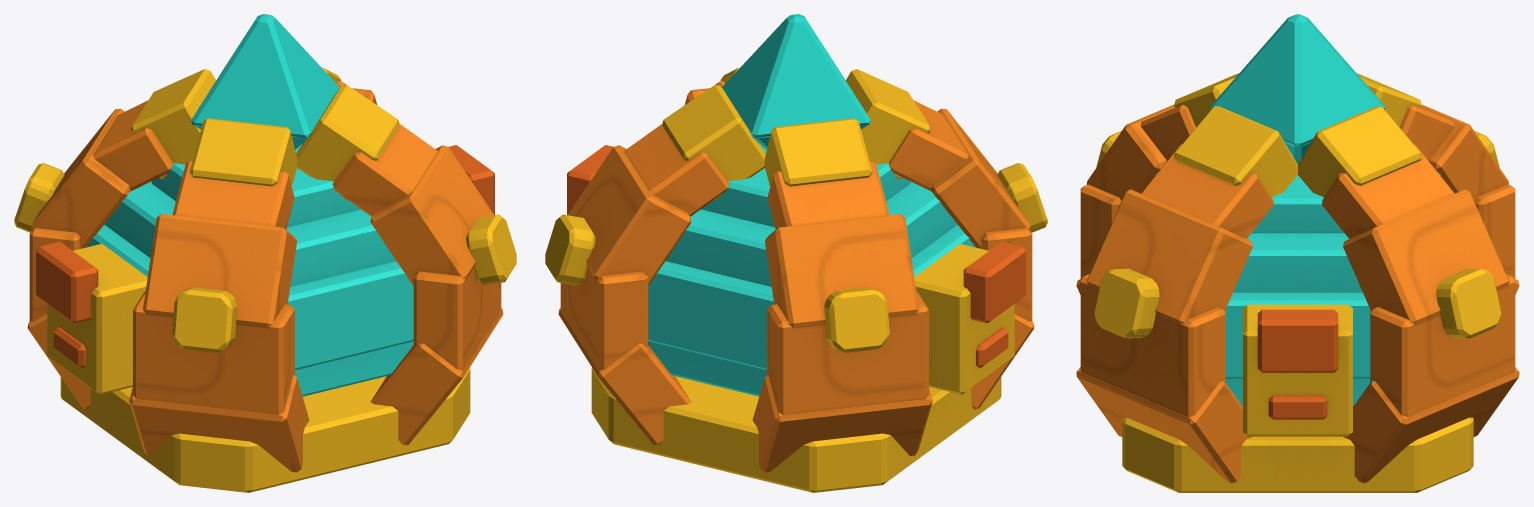
The model's file is Lovibum_Boom.fbx.
3 views of the same model, side by side, from view 1: azimuth 30°, elevation 25°; view 2: azimuth 150°, elevation 25°; view 3: azimuth 270°, elevation 25° (orthographic). The views are drawn at different scales.
Parts seen in each view (by area): view 1: LovibumBoomClaw3, LovibumBoomClaw4, LovibumBoomBase, LovibumBoomCore, LovibumBoomClaw2, LovibumBoomCrystal; view 2: LovibumBoomClaw2, LovibumBoomClaw1, LovibumBoomBase, LovibumBoomCore, LovibumBoomClaw3, LovibumBoomCrystal; view 3: LovibumBoomClaw1, LovibumBoomClaw4, LovibumBoomBase, LovibumBoomCore, LovibumBoomCrystal, LovibumBoomClaw2, LovibumBoomClaw3.
Boxes of the visible parts, bbox=[...] form: LovibumBoomClaw3: bbox=[129, 118, 309, 472]; LovibumBoomClaw4: bbox=[296, 85, 516, 445]; LovibumBoomBase: bbox=[36, 145, 494, 492]; LovibumBoomCore: bbox=[86, 144, 413, 396]; LovibumBoomClaw2: bbox=[14, 69, 215, 409]; LovibumBoomCrystal: bbox=[191, 14, 339, 149]; LovibumBoomClaw2: bbox=[752, 118, 932, 472]; LovibumBoomClaw1: bbox=[545, 85, 765, 445]; LovibumBoomBase: bbox=[567, 145, 1025, 492]; LovibumBoomCore: bbox=[648, 144, 975, 396]; LovibumBoomClaw3: bbox=[846, 69, 1047, 409]; LovibumBoomCrystal: bbox=[722, 14, 870, 149]; LovibumBoomClaw1: bbox=[1298, 106, 1519, 483]; LovibumBoomClaw4: bbox=[1076, 106, 1297, 483]; LovibumBoomBase: bbox=[1122, 304, 1473, 492]; LovibumBoomCore: bbox=[1155, 173, 1440, 406]; LovibumBoomCrystal: bbox=[1211, 14, 1384, 164]; LovibumBoomClaw2: bbox=[1356, 73, 1519, 294]; LovibumBoomClaw3: bbox=[1076, 73, 1239, 294].
Size of the model in its own units: 1.38 by 1.28 by 1.21.
